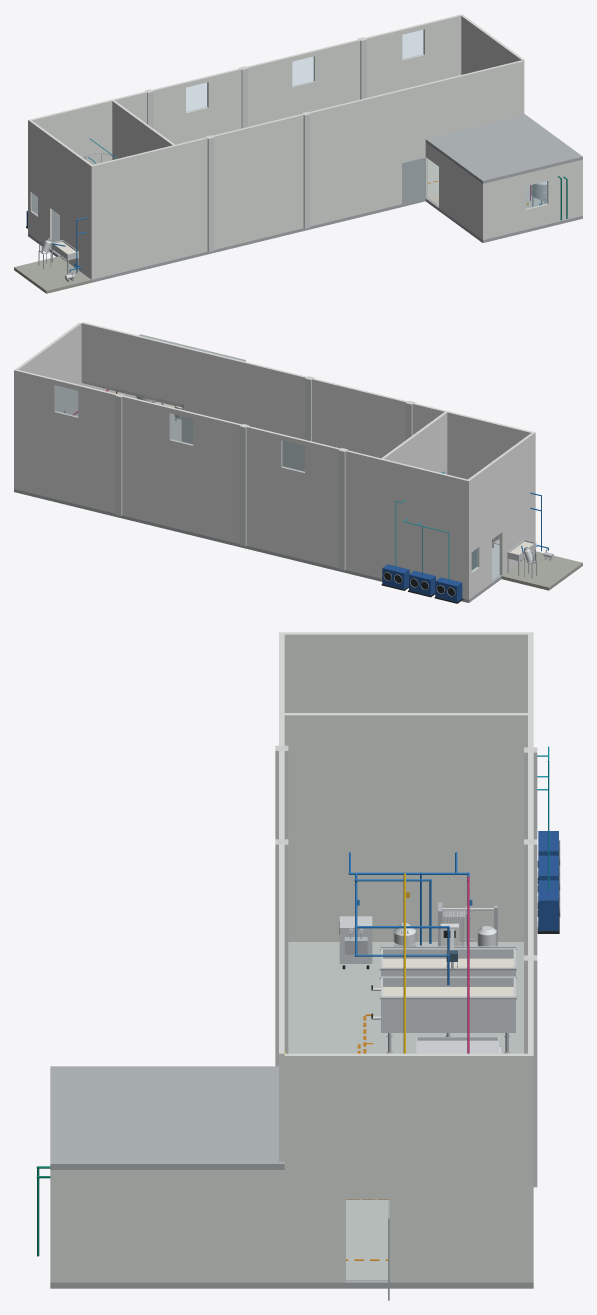
The model's file is planta-marulanda-sala.glb.
3 views of the same model, one above another, from view 1: azimuth 30°, elevation 25°; view 2: azimuth 150°, elevation 25°; view 3: azimuth 270°, elevation 25° (orthographic). The views are drawn at different scales.
Parts seen in each view (by area): view 1: Muro sur zona 1, Muro norte, Muro oeste recibo, Losa de la L (N+3,19), Muro sur L, Dintel sobre la L, Columna (×4), Muro oeste L, Muro este zona 1, Muro recibo - producción, Plataforma de recibo, Placa zona 1 (+3 smaller); view 2: Muro norte, Muro sur zona 1, Muro oeste recibo, Dintel sobre la L, Columna (×4), Muro este zona 1, Muro recibo - producción, Plataforma de recibo, Placa zona 1, Compresor 1, Compresor 3, Compresor 2 (+3 smaller); view 3: Muro este zona 1, Muro recibo - producción, Muro este L, Losa de la L (N+3,19), Muro oeste recibo, Piso producción 1, Tina S 2000, Columna (×5), Tina AT 2000, Muro norte, Leche, Muro sur zona 1 (+7 smaller).
Boxes of the visible parts, x1,y1,x2,y2 form: Muro sur zona 1: [90, 83, 427, 279]; Muro norte: [28, 14, 462, 233]; Muro oeste recibo: [28, 119, 93, 279]; Losa de la L (N+3,19): [425, 113, 582, 183]; Muro sur L: [481, 160, 582, 239]; Dintel sobre la L: [427, 60, 523, 138]; Columna (×4): [205, 37, 366, 251]; Muro oeste L: [425, 142, 481, 238]; Muro este zona 1: [461, 14, 524, 113]; Muro recibo - producción: [112, 100, 174, 159]; Plataforma de recibo: [14, 256, 91, 293]; Placa zona 1: [28, 198, 425, 282]; Muro norte: [14, 370, 469, 599]; Muro sur zona 1: [181, 346, 535, 541]; Muro oeste recibo: [466, 432, 535, 599]; Dintel sobre la L: [81, 322, 182, 406]; Columna (×4): [115, 376, 347, 570]; Muro este zona 1: [14, 322, 81, 489]; Muro recibo - producción: [381, 412, 447, 474]; Plataforma de recibo: [501, 551, 582, 590]; Placa zona 1: [14, 489, 501, 602]; Compresor 1: [434, 577, 463, 603]; Compresor 3: [381, 564, 409, 590]; Compresor 2: [408, 570, 435, 597]; Muro este zona 1: [284, 1053, 533, 1282]; Muro recibo - producción: [284, 713, 527, 941]; Muro este L: [50, 1170, 284, 1282]; Losa de la L (N+3,19): [50, 1066, 284, 1169]; Muro oeste recibo: [280, 632, 533, 712]; Piso producción 1: [288, 942, 523, 1280]; Tina S 2000: [371, 976, 516, 1053]; Columna (×5): [275, 745, 537, 1187]; Tina AT 2000: [371, 946, 516, 990]; Muro norte: [528, 632, 533, 1282]; Leche: [348, 852, 469, 985]; Muro sur zona 1: [279, 632, 284, 960].
Size of what is drawn, in the model's own units: 26.42 by 5.89 by 12.02.
